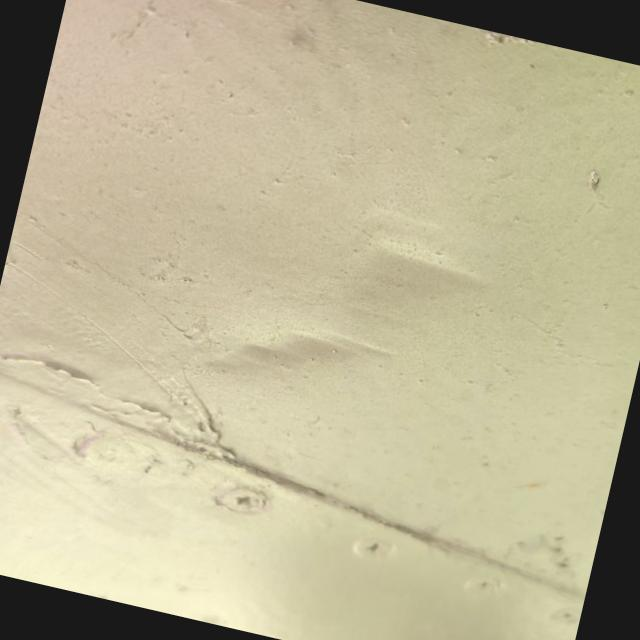dent: (179, 158, 534, 460)
